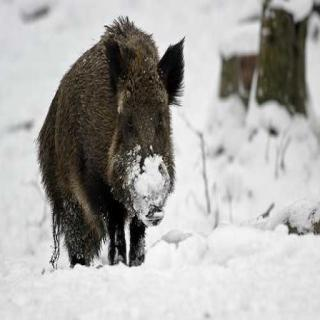Pig: (7, 17, 245, 286)
